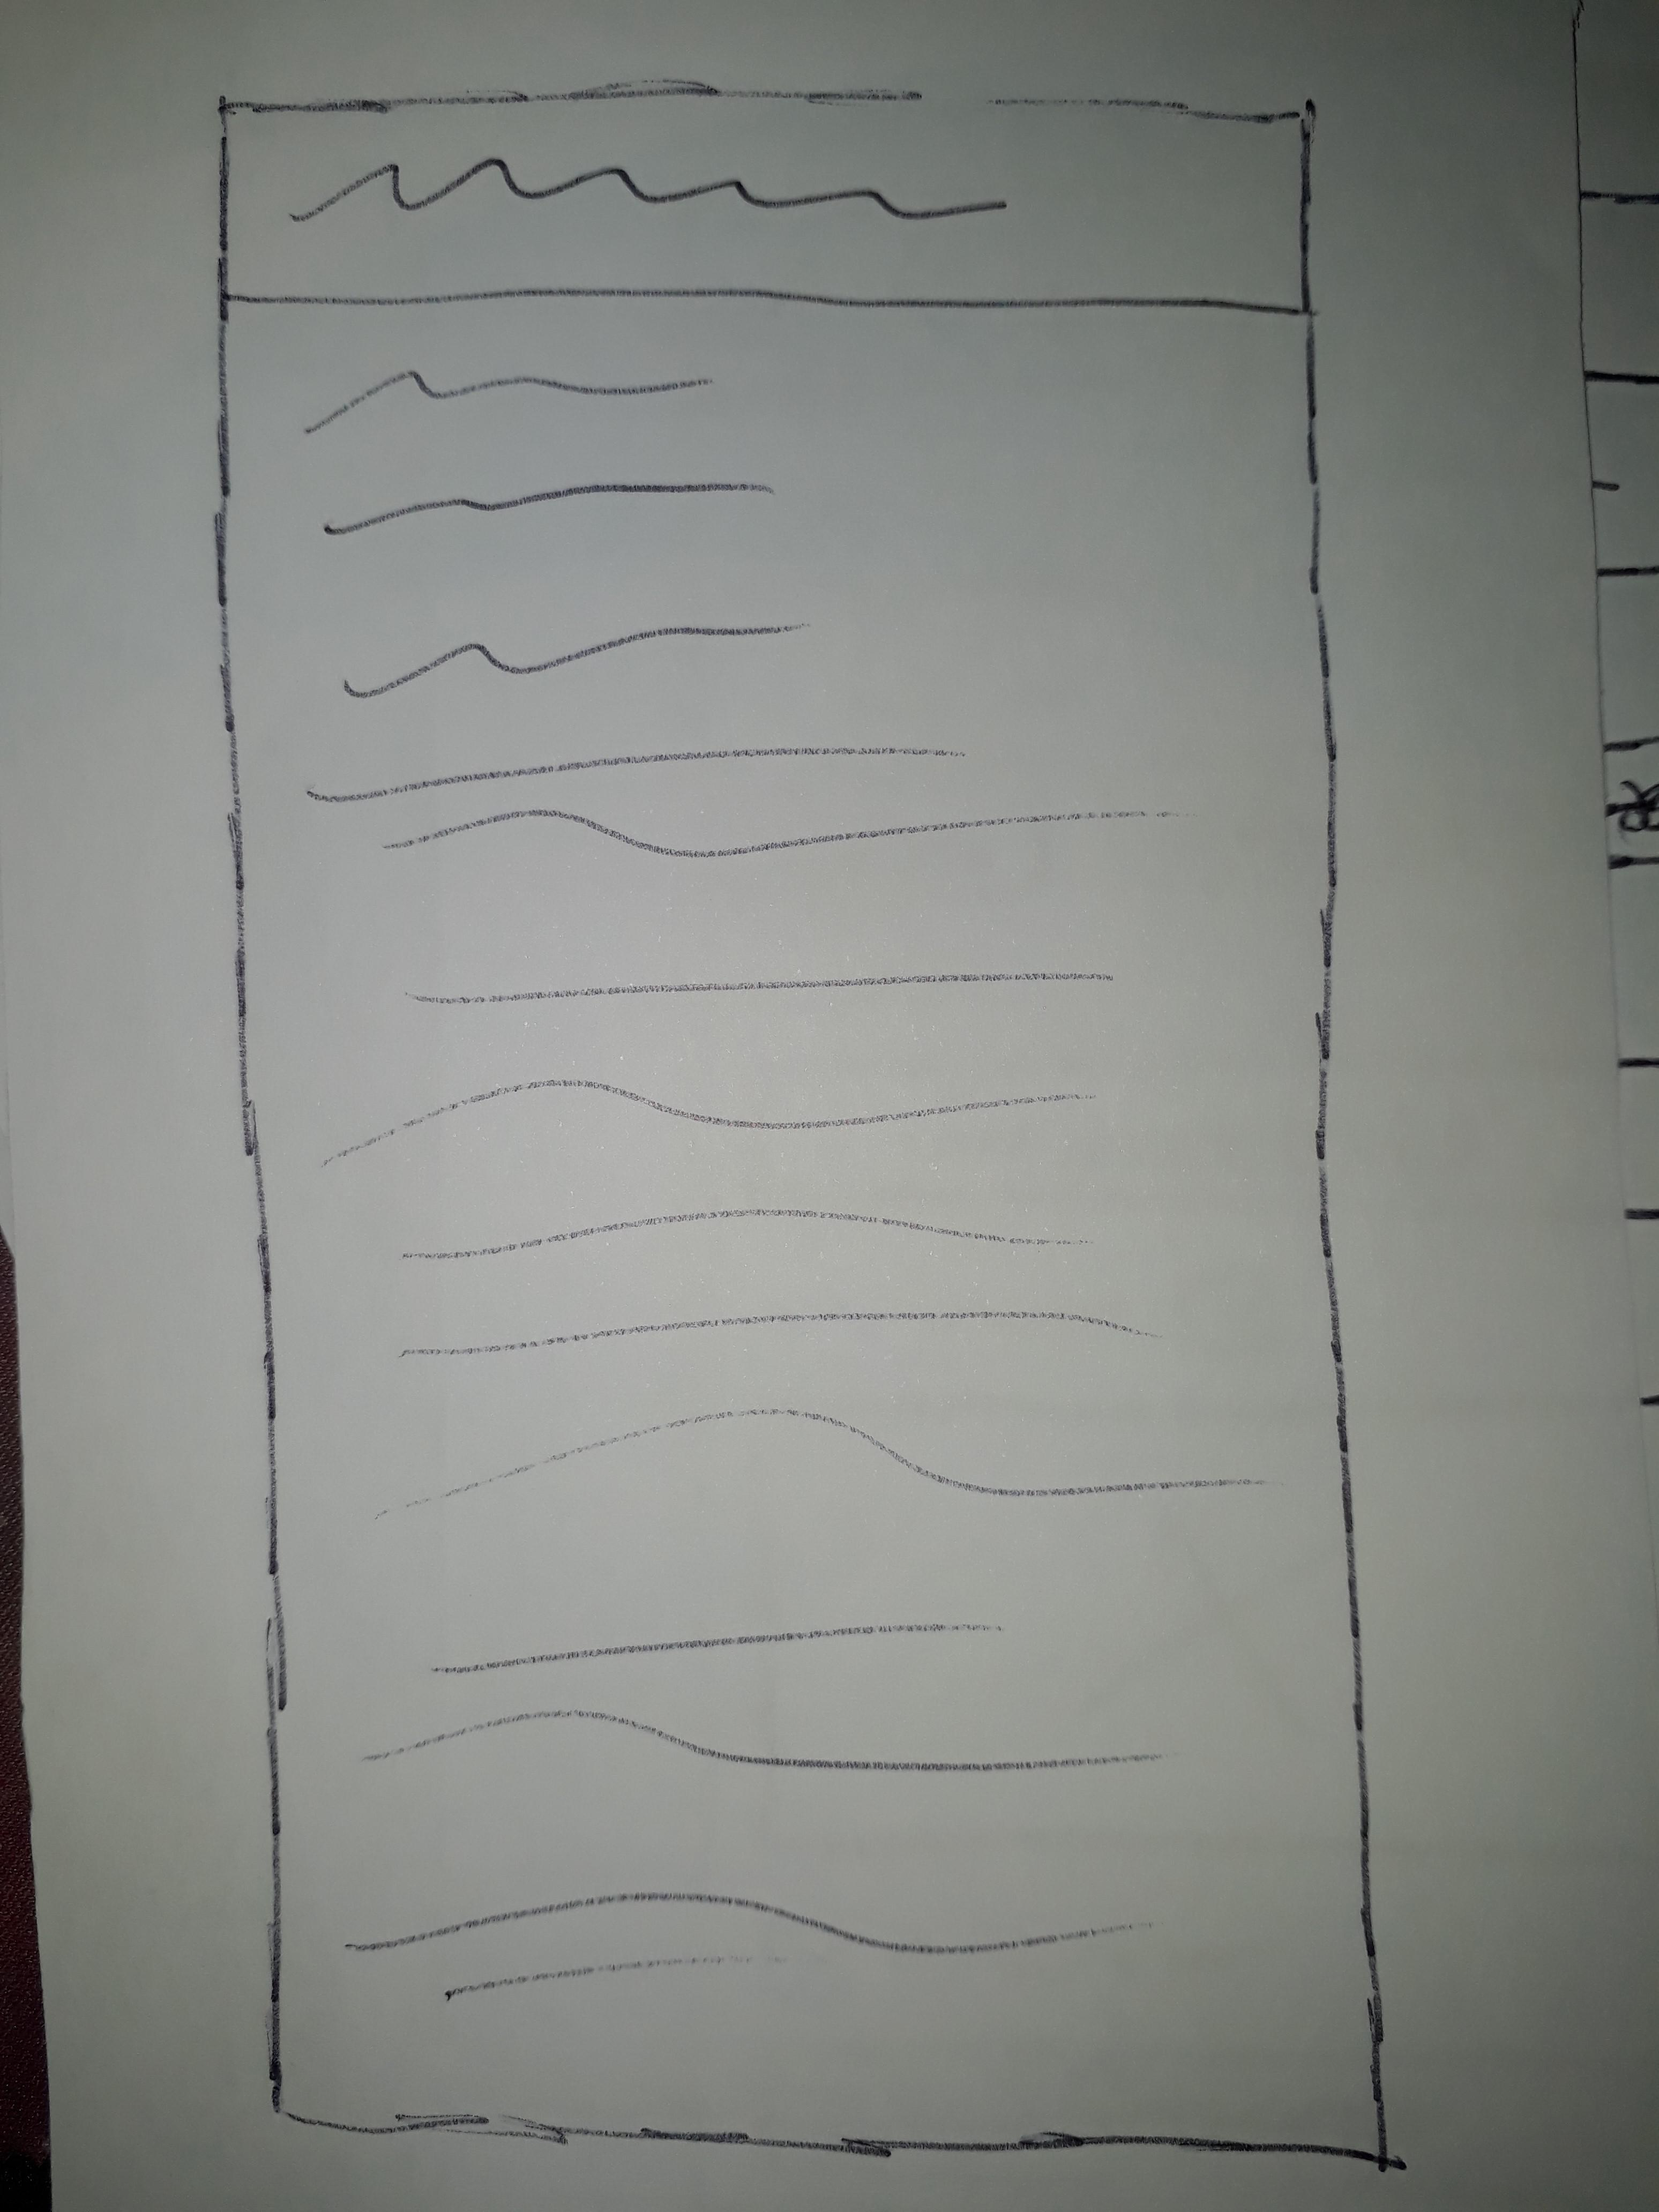Label: (301, 354, 1295, 2022), (289, 150, 1011, 230)
Screen: (221, 91, 1387, 2165)
